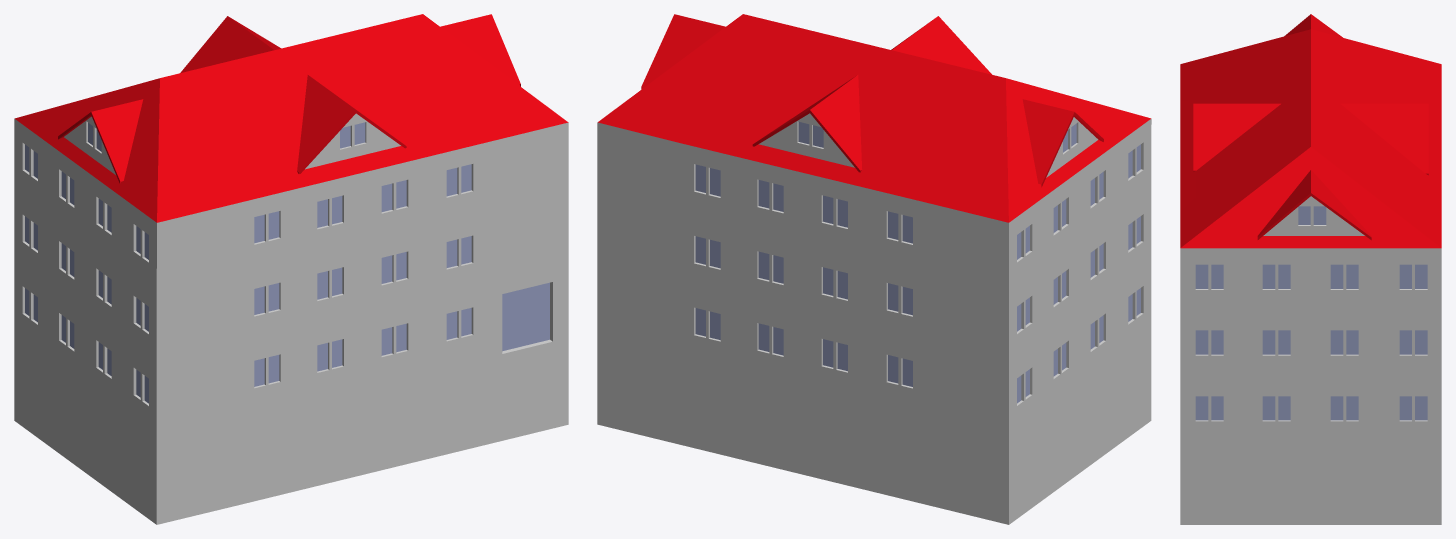
File: BuildingFamily.glb
The picture shows the model from 3 angles, left to right: view 1: azimuth 30°, elevation 25°; view 2: azimuth 150°, elevation 25°; view 3: azimuth 270°, elevation 25°; orthographic projection. The views are drawn at different scales.
Visible parts, largest first — view 1: Cube; view 2: Cube; view 3: Cube.
Boxes of the visible parts, x1,y1,x2,y2 form: Cube: (14, 14, 568, 524); Cube: (597, 14, 1151, 524); Cube: (1180, 14, 1441, 524).
Bounding box in the file's own units: 20 × 17.49 × 12.
